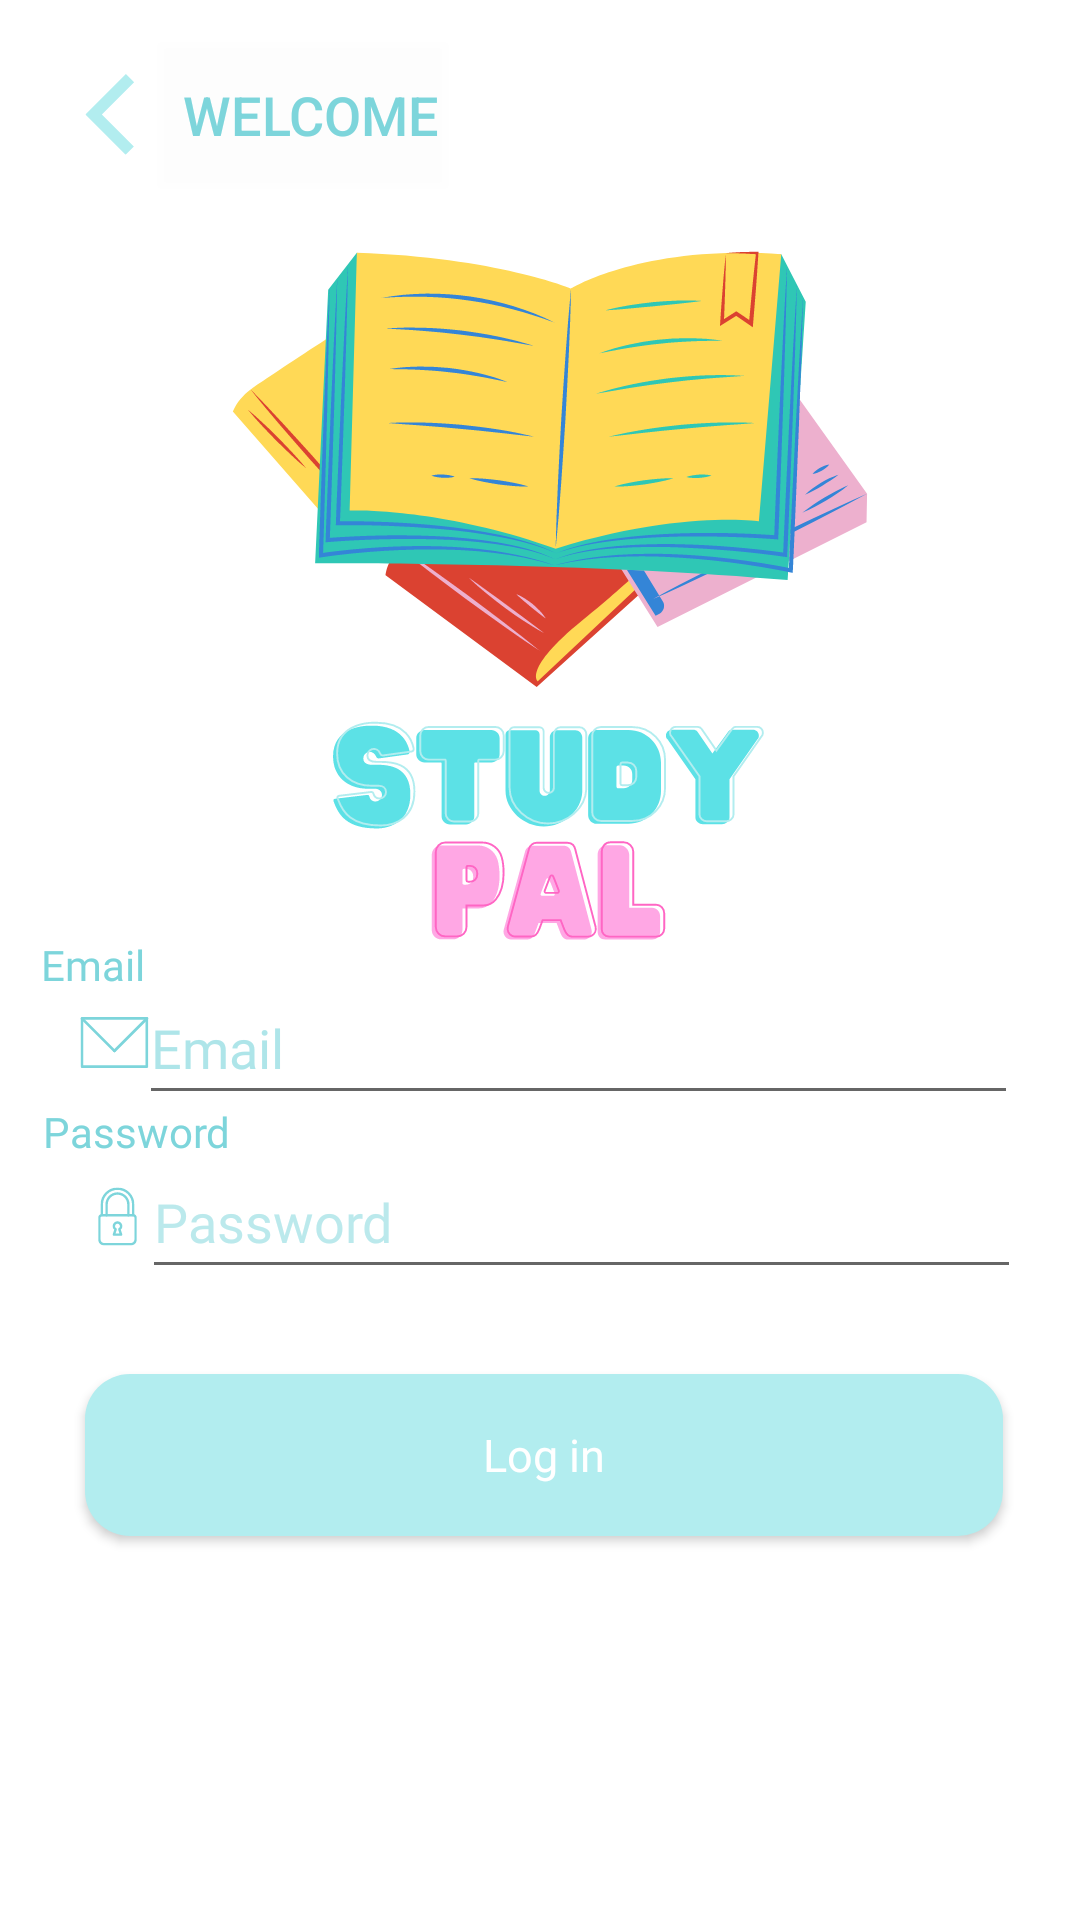

Where icons sit on this 1080×1920 app screen, as (x1, y1, x2, y2):
back arrow: (86, 74, 134, 155)
lock: (98, 1187, 137, 1246)
